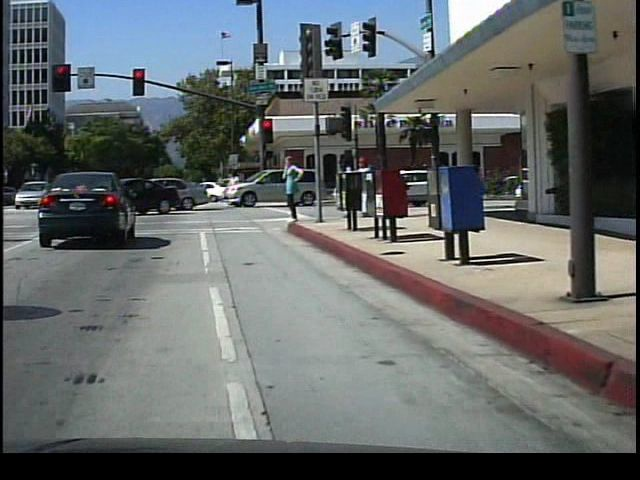person: (282, 149, 311, 224), (358, 151, 381, 218), (339, 151, 361, 217)
